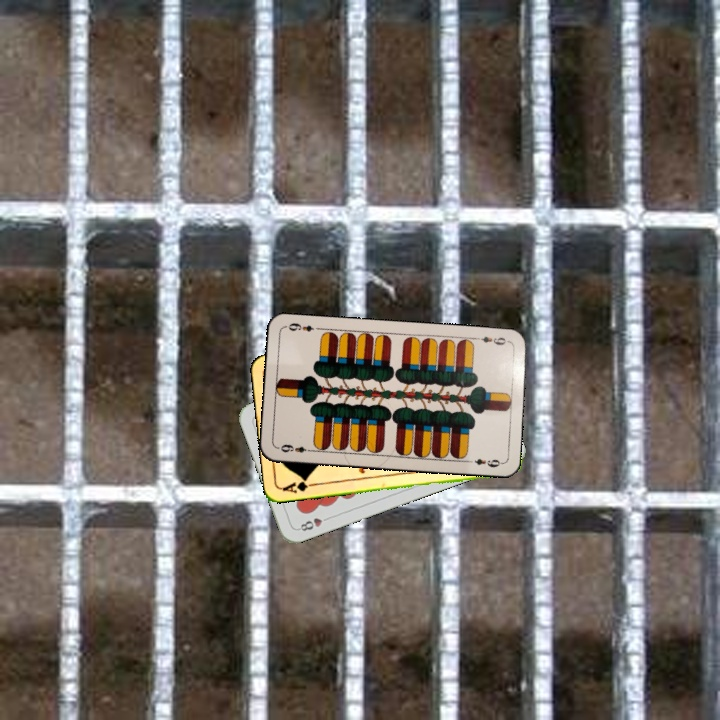E9: (471, 333, 511, 348), (277, 440, 315, 455)
GA: (279, 474, 319, 496)
H8: (294, 512, 333, 534)
